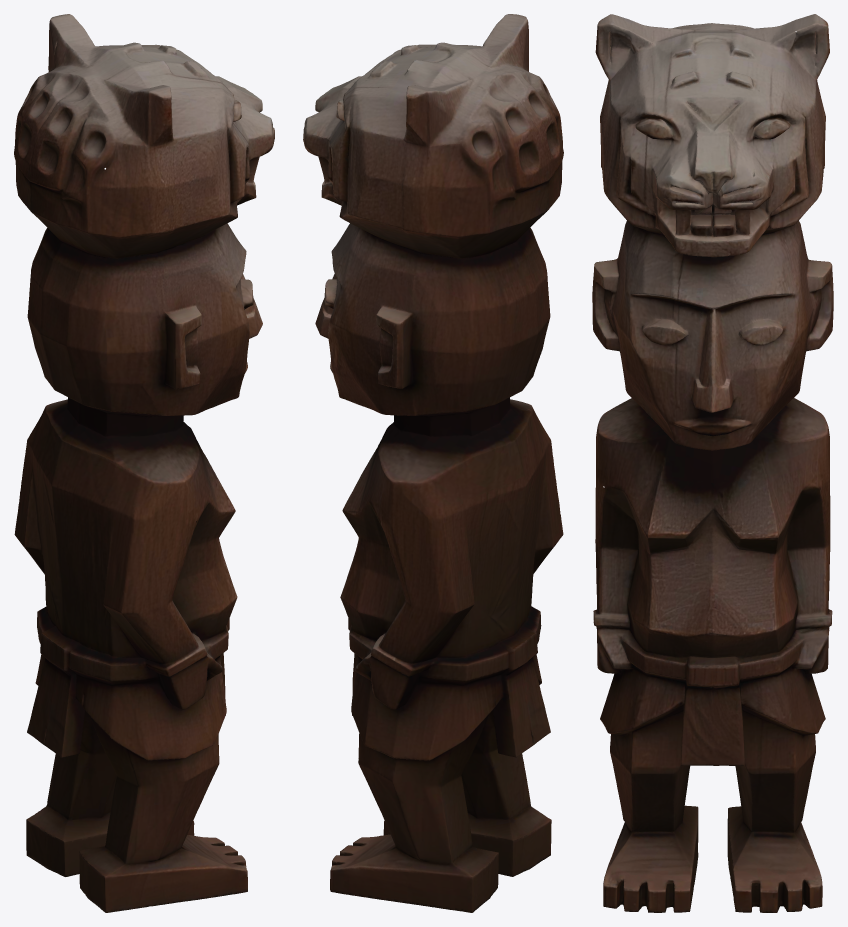
The model's file is orangorangan.glb.
3 renders of one model, left to right at view 1: azimuth 30°, elevation 25°; view 2: azimuth 150°, elevation 25°; view 3: azimuth 270°, elevation 25°, orthographic. The views are drawn at different scales.
Parts seen in each view (by area): view 1: tripo_node_4391f130-facf-4898-982e-e35783cd0b29; view 2: tripo_node_4391f130-facf-4898-982e-e35783cd0b29; view 3: tripo_node_4391f130-facf-4898-982e-e35783cd0b29.
Boxes of the visible parts, x1=… form: tripo_node_4391f130-facf-4898-982e-e35783cd0b29: x1=14, y1=14, x2=274, y2=912; tripo_node_4391f130-facf-4898-982e-e35783cd0b29: x1=303, y1=14, x2=563, y2=912; tripo_node_4391f130-facf-4898-982e-e35783cd0b29: x1=592, y1=14, x2=833, y2=912.
Size of the model in its own units: 0.2975 by 1 by 0.2586.
1 material, 1 textured.
